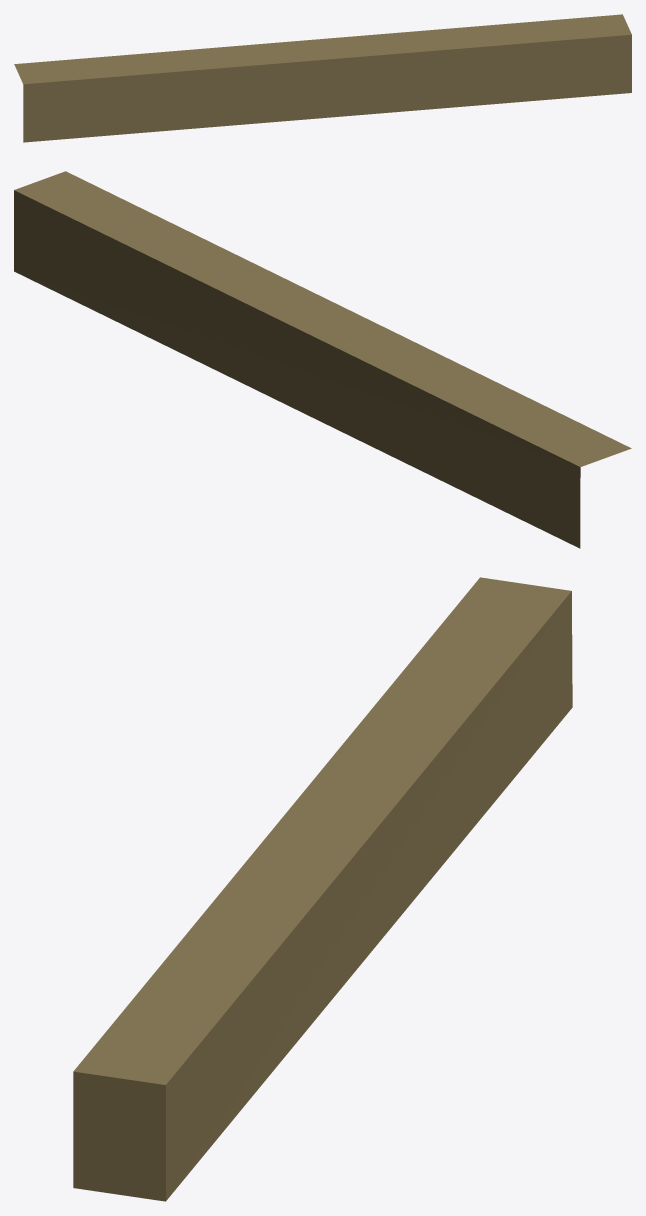
Rendered from terminal-80---20_13.glb.
3 renders of one model, top to bottom at view 1: azimuth 30°, elevation 25°; view 2: azimuth 150°, elevation 25°; view 3: azimuth 270°, elevation 25°, orthographic. The views are drawn at different scales.
Visible parts, largest first — view 1: measured-industrial; view 2: measured-industrial; view 3: measured-industrial.
Part boxes in pixels (left/top/right/bottom): measured-industrial: left=14, top=14, right=631, bottom=142; measured-industrial: left=14, top=171, right=631, bottom=548; measured-industrial: left=73, top=577, right=572, bottom=1201.
Bounding box in the file's own units: 22.33 × 2.4 × 9.27.
